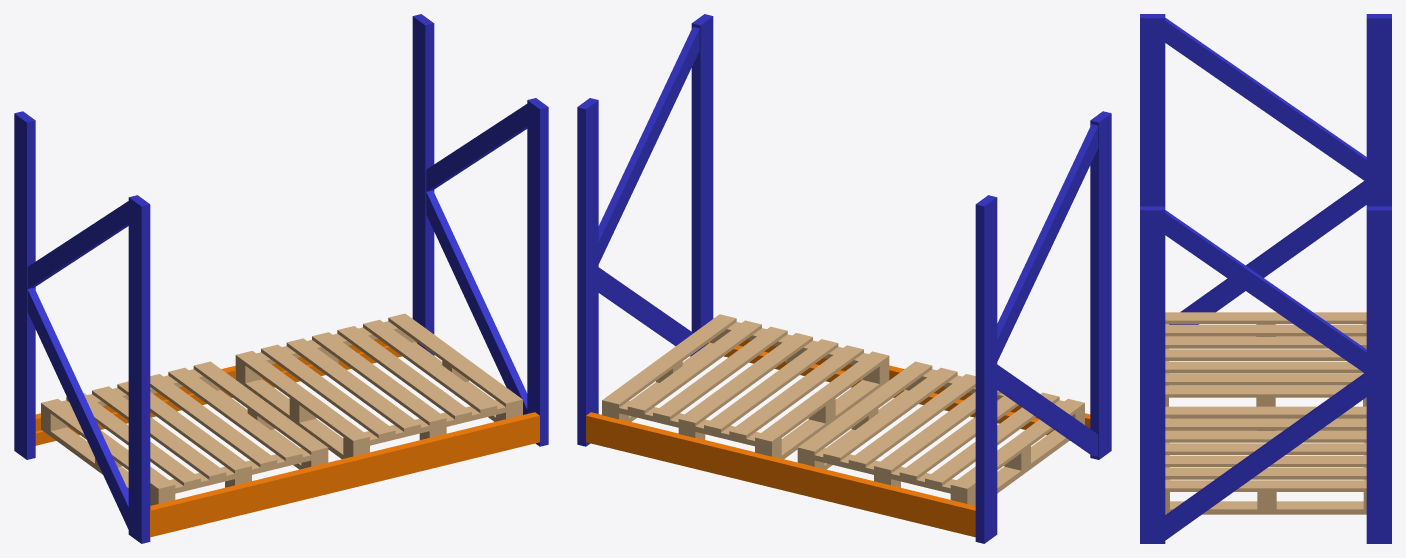
The model's file is Longarina_Junto_2pallets_1.glb.
3 views of the same model, side by side, from view 1: azimuth 30°, elevation 25°; view 2: azimuth 150°, elevation 25°; view 3: azimuth 270°, elevation 25° (orthographic).
Parts seen in each view (by area): view 1: Barras_Laterais; view 2: Barras_Laterais; view 3: Barras_Laterais.
Boxes of the visible parts, box(x1,y1,x2,y2) form: Barras_Laterais: box(14, 14, 548, 543); Barras_Laterais: box(577, 14, 1111, 543); Barras_Laterais: box(1140, 14, 1391, 543).
Bounding box in the file's own units: 2.4 × 1.9 × 1.3.
